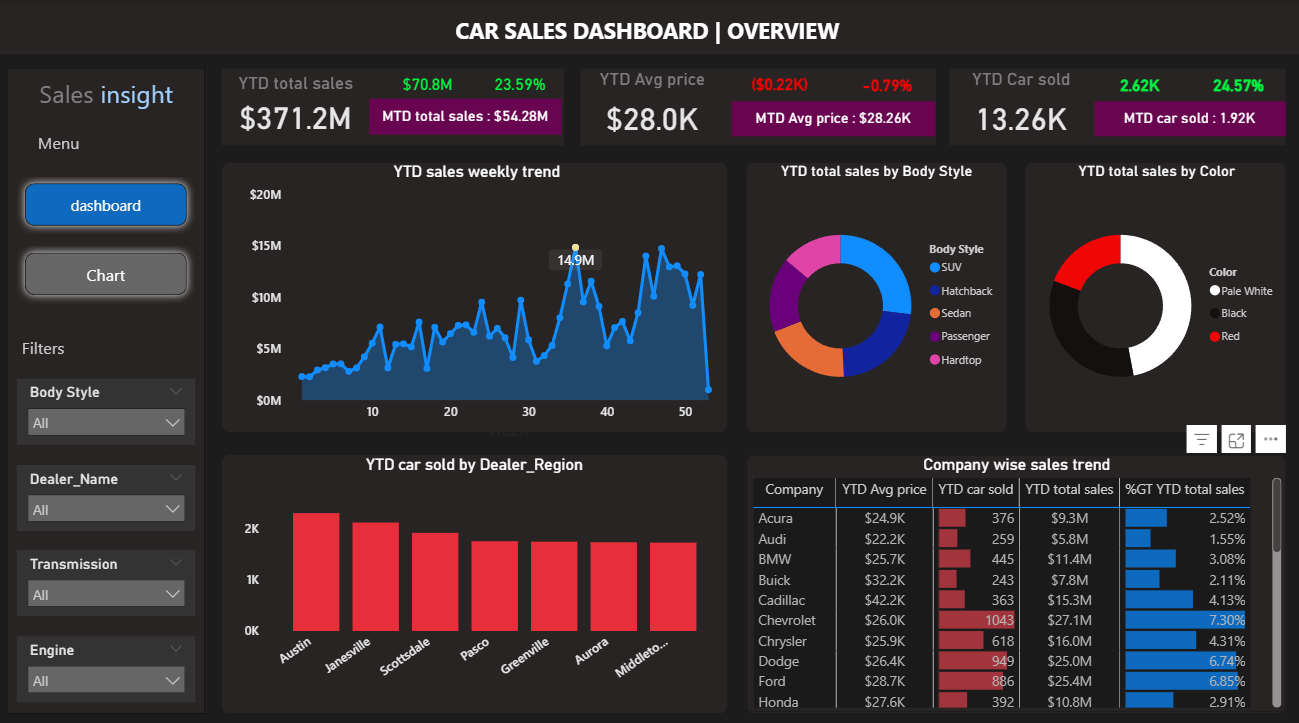

Layout of this report page (visuals, bound fields, positions):
{"tool":"powerbi","page":{"name":"dashboard","canvas":[1280,720],"ordinal":0},"visuals":[{"type":"shape","box":[0,0,1280,52.5],"z":0},{"type":"shape","box":[10,67.5,192.5,632.5],"z":1000},{"type":"shape","box":[220,67.5,336.2,75],"z":2000},{"type":"shape","box":[571.2,67.5,348.8,75],"z":3000},{"type":"shape","box":[933.8,67.5,330,75],"z":4000},{"type":"shape","box":[220,160,496.2,265],"z":5000},{"type":"shape","box":[735,160,255,265],"z":6000},{"type":"shape","box":[1008.8,160,255,265],"z":7000},{"type":"shape","box":[220,446.2,496.2,253.8],"z":8000},{"type":"shape","box":[735,446.2,528.8,253.8],"z":9000},{"type":"card","title":"YTD total sales","fields":{"Values":["car_data.YTD total sales"]},"box":[220,71.2,145,67.5],"z":10000},{"type":"card","fields":{"Values":["car_data.Sales differnce"]},"box":[373.8,67.5,95,32.5],"z":11000},{"type":"card","fields":{"Values":["car_data.YOY sales Growth"]},"box":[468.8,67.5,87.5,32.5],"z":12000},{"type":"card","fields":{"Values":["car_data.MTD KPI"]},"box":[0,0,189,35.6],"z":13000},{"type":"card","title":"YTD Avg price","fields":{"Values":["car_data.YTD Avg price"]},"box":[569.3,67.5,146,76.1],"z":14000},{"type":"card","fields":{"Values":["car_data.Avg price difference"]},"box":[720.2,67.5,94.5,33.1],"z":15000},{"type":"card","fields":{"Values":["car_data.YOY Avg price growth"]},"box":[825.8,68.7,94.5,33.1],"z":16000},{"type":"card","fields":{"Values":["car_data.MTD Avg price KPI"]},"box":[720.2,99.4,200,34.4],"z":17000},{"type":"card","title":"YTD Car sold","fields":{"Values":["car_data.YTD car sold"]},"box":[935,67.5,138.7,76.1],"z":18000},{"type":"card","fields":{"Values":["car_data.Car sold diff"]},"box":[1073.6,68.7,94.5,33.1],"z":19000},{"type":"card","fields":{"Values":["car_data.YOY car sold growth"]},"box":[1170.6,68.7,94.5,33.1],"z":20000},{"type":"card","fields":{"Values":["car_data.MTD car sold KPI"]},"box":[1076.1,99.4,187.7,34.4],"z":21000},{"type":"areaChart","title":"YTD sales weekly trend","fields":{"Category":["calender table.WEEK"],"Y":["Sum(car_data.Price ($))","car_data.Max point"]},"box":[219.6,159.5,500.6,277.3],"z":22000},{"type":"donutChart","fields":{"Category":["car_data.Body Style"],"Y":["car_data.YTD total sales"]},"box":[735,159.5,255.2,265],"z":23000},{"type":"donutChart","fields":{"Y":["car_data.YTD total sales"],"Category":["car_data.Color"]},"box":[1009.8,159.5,255.2,265],"z":24000},{"type":"tableEx","title":"Company wise sales trend","fields":{"Values":["car_data.Company","car_data.YTD Avg price","car_data.YTD car sold","car_data.YTD total sales1","car_data.YTD total sales"]},"box":[735,446.6,530.1,252.8],"z":25000},{"type":"textbox","box":[433.1,9.8,408.6,42.9],"z":26000},{"type":"slicer","fields":{"Values":["car_data.Body Style"]},"box":[18.4,371.8,175.5,65],"z":27000},{"type":"slicer","fields":{"Values":["car_data.Dealer_Name"]},"box":[18.4,456.4,175.5,65],"z":28000},{"type":"slicer","fields":{"Values":["car_data.Transmission"]},"box":[18.4,539.9,175.5,65],"z":29000},{"type":"slicer","fields":{"Values":["car_data.Engine"]},"box":[18.4,624.5,175.5,65],"z":30000},{"type":"textbox","box":[18.4,325.2,77.3,34.4],"z":31000},{"type":"pageNavigator","box":[18.4,171.8,175.5,126.4],"z":32000},{"type":"textbox","box":[9.8,71.2,192.6,50.3],"z":33000},{"type":"textbox","box":[12.3,123.9,94.5,39.3],"z":34000},{"type":"clusteredColumnChart","fields":{"Category":["car_data.Dealer_Region"],"Y":["car_data.YTD car sold"]},"box":[219.6,446.6,495.7,252.8],"z":35000}]}

Visuals, with their boxes in screenshot pixels (x1, y1, x2, y2), scaled from the page's 1280x720 canvas onto the 1299x723 screenshot:
shape: crop(0, 0, 1298, 53)
shape: crop(10, 68, 206, 703)
shape: crop(223, 68, 564, 143)
shape: crop(580, 68, 934, 143)
shape: crop(948, 68, 1283, 143)
shape: crop(223, 161, 727, 427)
shape: crop(746, 161, 1005, 427)
shape: crop(1024, 161, 1283, 427)
shape: crop(223, 448, 727, 703)
shape: crop(746, 448, 1283, 703)
"YTD total sales" card: crop(223, 71, 370, 139)
card - car_data.Sales differnce: crop(379, 68, 476, 100)
card - car_data.YOY sales Growth: crop(476, 68, 565, 100)
card - car_data.MTD KPI: crop(0, 0, 192, 36)
"YTD Avg price" card: crop(578, 68, 726, 144)
card - car_data.Avg price difference: crop(731, 68, 827, 101)
card - car_data.YOY Avg price growth: crop(838, 69, 934, 102)
card - car_data.MTD Avg price KPI: crop(731, 100, 934, 134)
"YTD Car sold" card: crop(949, 68, 1090, 144)
card - car_data.Car sold diff: crop(1090, 69, 1185, 102)
card - car_data.YOY car sold growth: crop(1188, 69, 1284, 102)
card - car_data.MTD car sold KPI: crop(1092, 100, 1283, 134)
"YTD sales weekly trend" areaChart: crop(223, 160, 731, 439)
donutChart - car_data.Body Style x car_data.YTD total sales: crop(746, 160, 1005, 426)
donutChart - car_data.YTD total sales x car_data.Color: crop(1025, 160, 1284, 426)
"Company wise sales trend" tableEx: crop(746, 448, 1284, 702)
textbox: crop(440, 10, 854, 53)
slicer - car_data.Body Style: crop(19, 373, 197, 439)
slicer - car_data.Dealer_Name: crop(19, 458, 197, 524)
slicer - car_data.Transmission: crop(19, 542, 197, 607)
slicer - car_data.Engine: crop(19, 627, 197, 692)
textbox: crop(19, 327, 97, 361)
pageNavigator: crop(19, 173, 197, 299)
textbox: crop(10, 71, 205, 122)
textbox: crop(12, 124, 108, 164)
clusteredColumnChart - car_data.Dealer_Region x car_data.YTD car sold: crop(223, 448, 726, 702)
